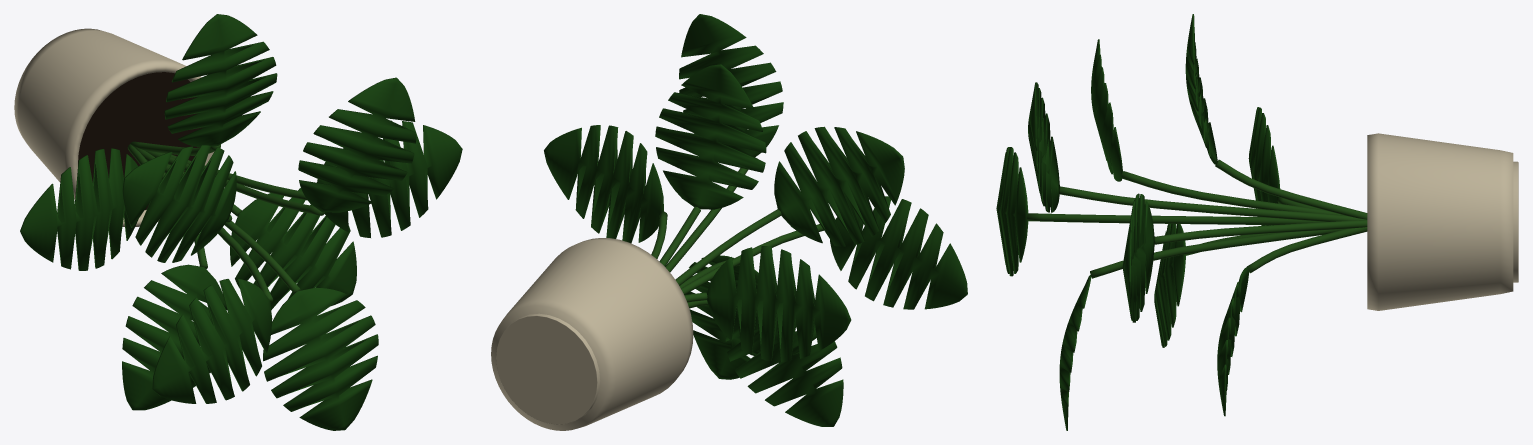
File: potted-split-leaf-monstera.obj
3 views of the same model, side by side, from view 1: azimuth 30°, elevation 25°; view 2: azimuth 150°, elevation 25°; view 3: azimuth 270°, elevation 25° (orthographic). The views are drawn at different scales.
Parts seen in each view (by area): view 1: Split_leaves, Plain_ceramic_planter, Soil_surface, Leaf_petiole.007, Leaf_petiole.006, Leaf_petiole.008, Leaf_petiole.004, Leaf_petiole.002; view 2: Split_leaves, Plain_ceramic_planter, Planter_foot, Leaf_petiole.005, Leaf_petiole.008, Leaf_petiole.007, Leaf_petiole.002; view 3: Plain_ceramic_planter, Split_leaves, Leaf_petiole.007, Leaf_petiole.008, Leaf_petiole.004, Leaf_petiole.006, Leaf_petiole.005, Leaf_petiole.002, Leaf_petiole.001, Planter_foot.
Boxes of the visible parts, x1,y1,x2,y2 form: Split_leaves: (20,14,462,430); Plain_ceramic_planter: (14,28,214,226); Soil_surface: (78,72,202,209); Leaf_petiole.007: (146,151,324,215); Leaf_petiole.006: (224,221,300,293); Leaf_petiole.008: (161,173,273,303); Leaf_petiole.004: (161,153,307,200); Leaf_petiole.002: (130,141,220,155); Split_leaves: (544,14,967,426); Plain_ceramic_planter: (491,238,693,430); Planter_foot: (496,313,600,424); Leaf_petiole.005: (675,209,781,285); Leaf_petiole.008: (681,224,823,294); Leaf_petiole.007: (665,168,747,272); Leaf_petiole.002: (659,206,700,266); Plain_ceramic_planter: (1367,133,1513,310); Split_leaves: (996,14,1280,430); Leaf_petiole.007: (1059,186,1366,221); Leaf_petiole.008: (1027,213,1324,224); Leaf_petiole.004: (1154,220,1367,244); Leaf_petiole.006: (1090,229,1344,278); Leaf_petiole.005: (1121,171,1343,215); Leaf_petiole.002: (1215,159,1367,219); Leaf_petiole.001: (1247,227,1367,273); Planter_foot: (1513,161,1518,282).
Size of the model in its own units: 0.9849 by 0.9567 by 1.17.
